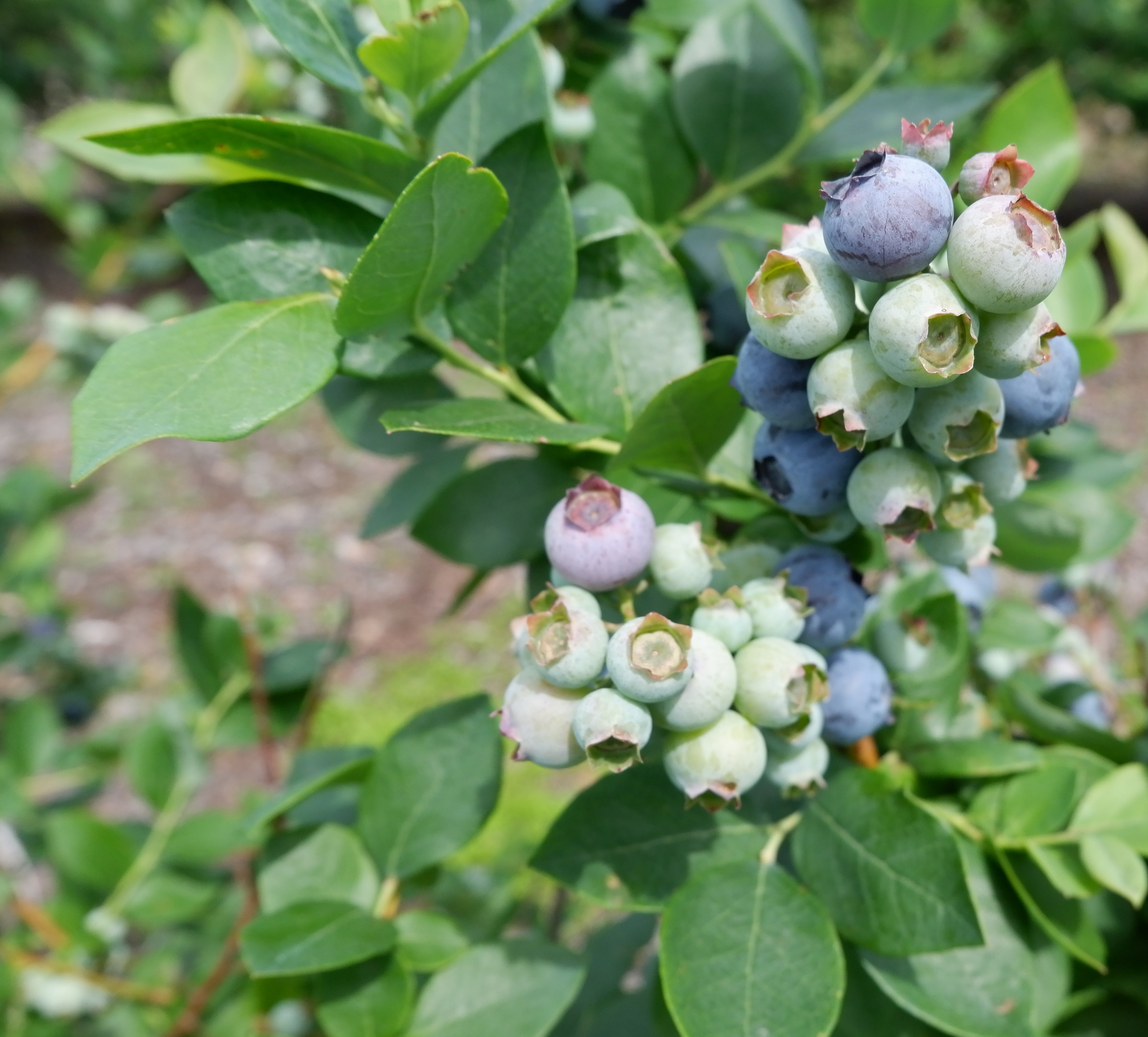Immature: (952, 195, 1063, 311), (547, 478, 653, 591), (749, 247, 856, 354), (872, 276, 976, 384), (811, 335, 914, 441), (665, 713, 763, 807), (910, 370, 1003, 460), (654, 633, 736, 733), (499, 672, 584, 768), (851, 447, 943, 534), (736, 640, 826, 728), (514, 611, 606, 686), (609, 616, 690, 701), (927, 471, 995, 567), (576, 688, 652, 772), (976, 305, 1053, 375), (961, 440, 1035, 504), (737, 577, 811, 640), (652, 524, 715, 598), (874, 608, 936, 672), (958, 146, 1032, 199), (766, 733, 828, 793), (690, 591, 751, 651), (529, 585, 601, 621), (903, 118, 952, 168), (795, 503, 858, 540), (777, 705, 822, 746), (785, 217, 825, 250)
Mature: (823, 146, 952, 277), (776, 546, 869, 652), (755, 426, 860, 511), (998, 333, 1078, 437), (734, 333, 815, 426), (821, 649, 892, 747)
